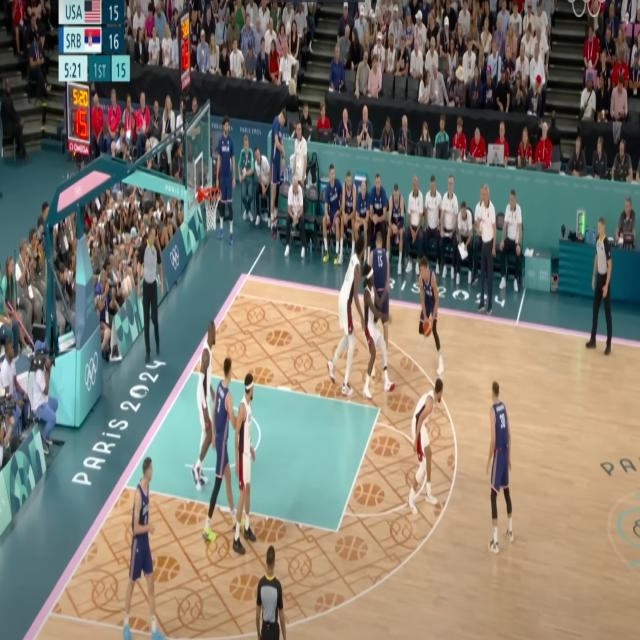basketball: (422, 315, 432, 340), (423, 318, 431, 336)
hoop: (199, 182, 224, 239)
